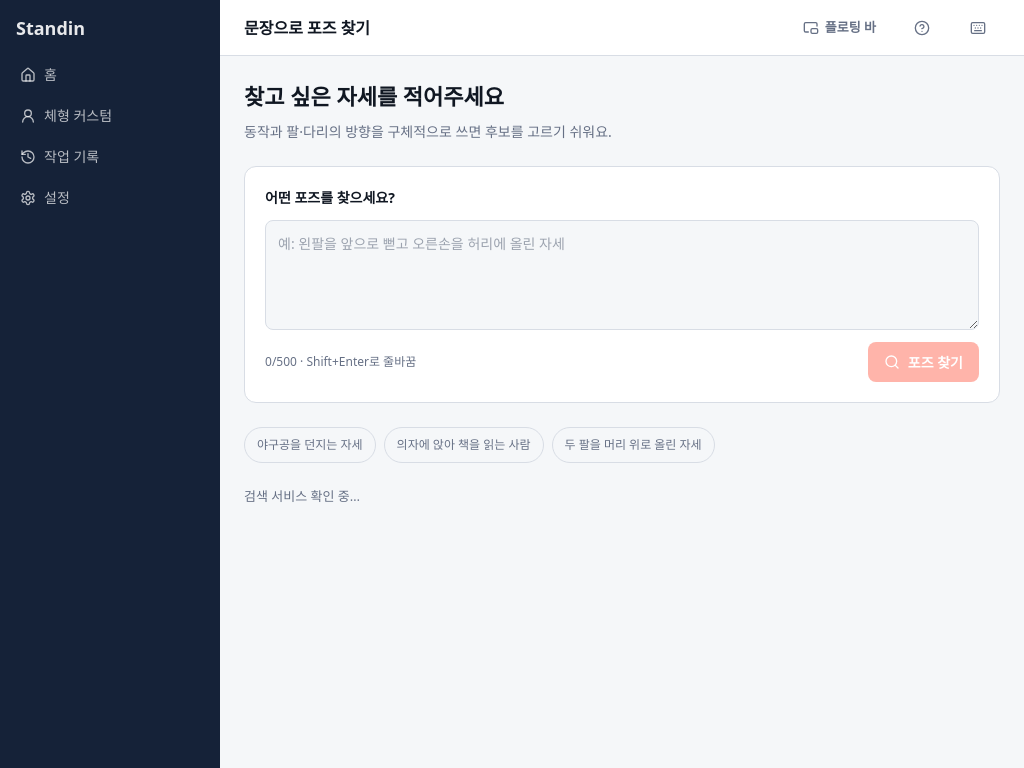
Test case: server errors use the safe app message and differ from an empty result
The width and height of the screenshot is (1024, 768).
Type "던지는 자세" into the text box.
click(622, 275); type("던지는 자세")  # box x1=265 y1=220 x2=979 y2=330
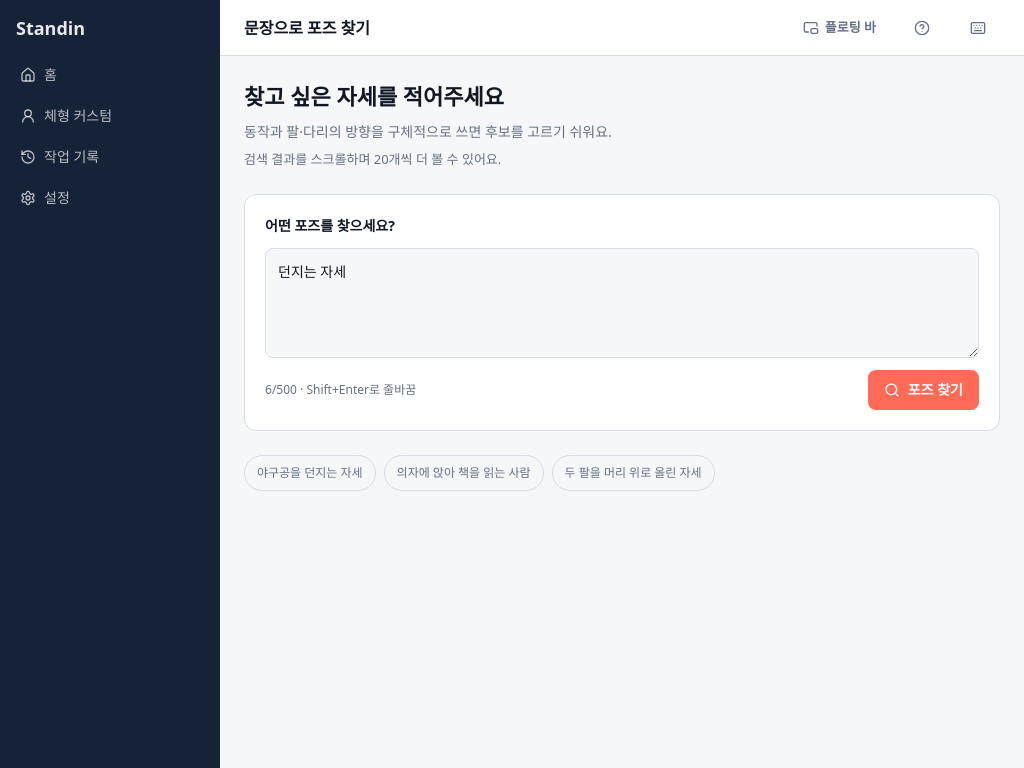
expect the button "포즈 찾기" is enabled: met
Click the button "포즈 찾기".
click(923, 390)  # box x1=868 y1=370 x2=979 y2=410
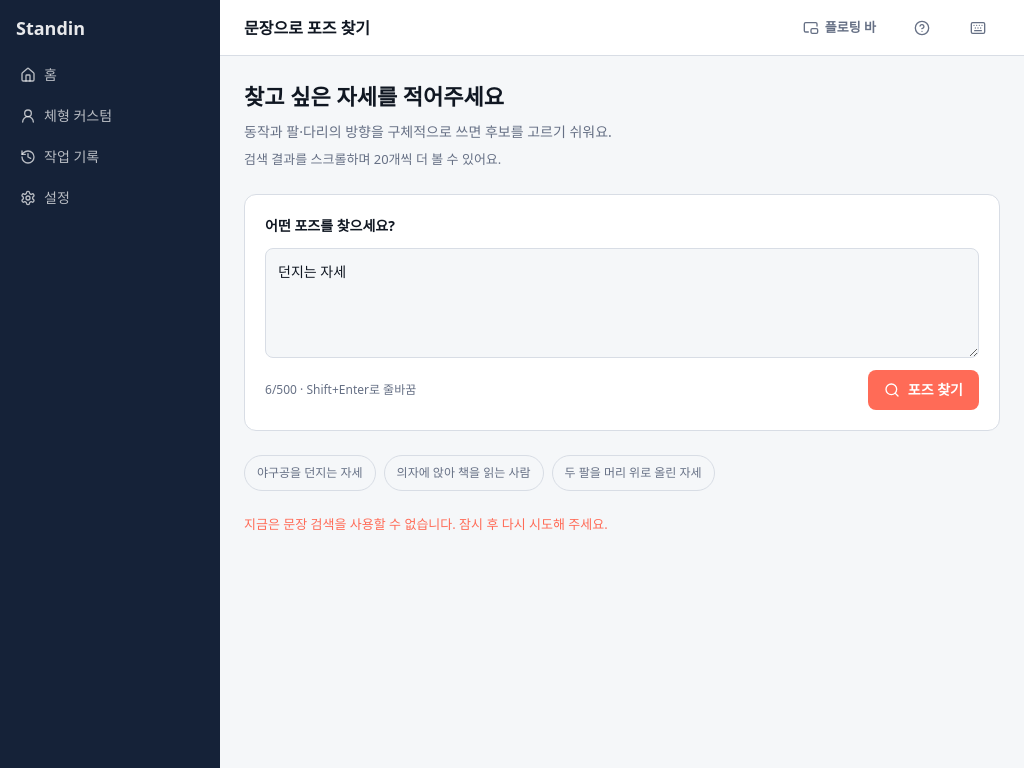
expect the message shows "지금은 문장 검색을 사용할 수 없습니다": met, box x1=244 y1=514 x2=608 y2=532
